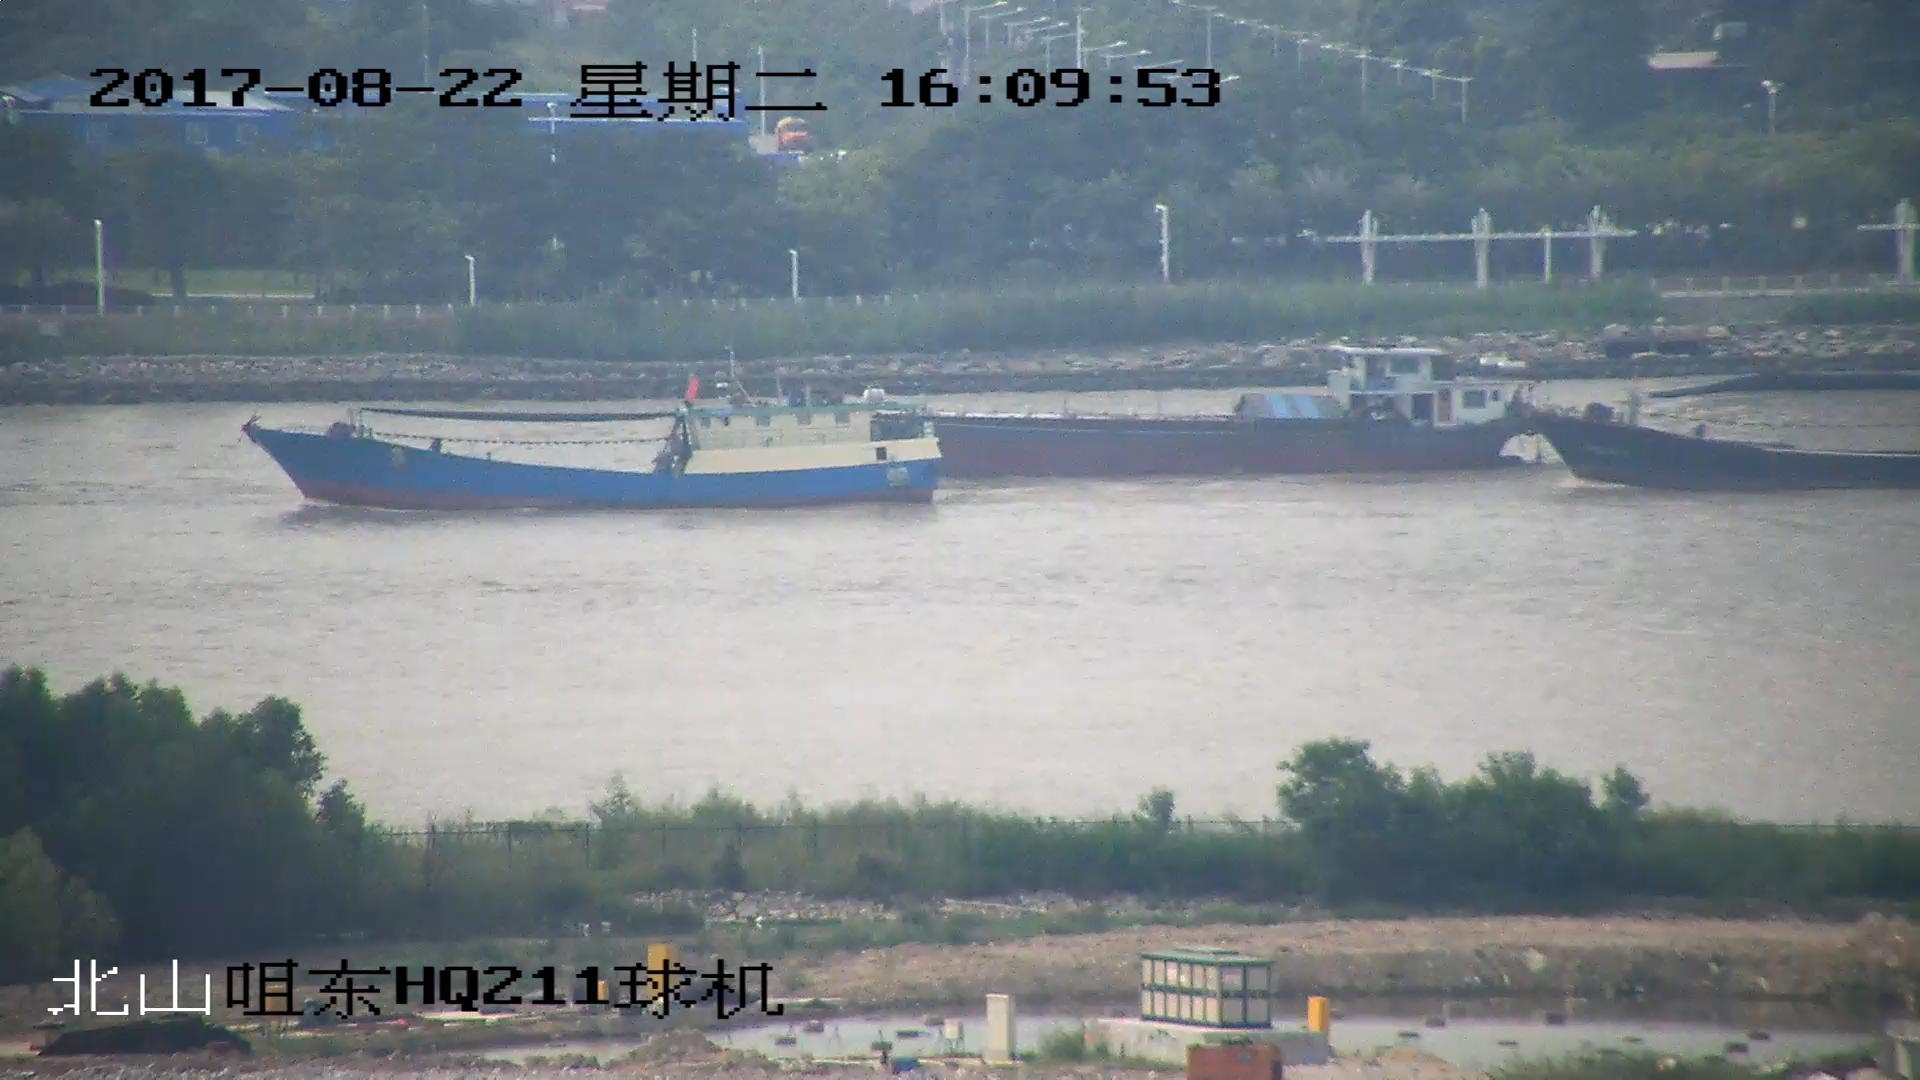Ship: (247, 372, 951, 516), (869, 332, 1542, 475), (1530, 368, 1920, 493)
